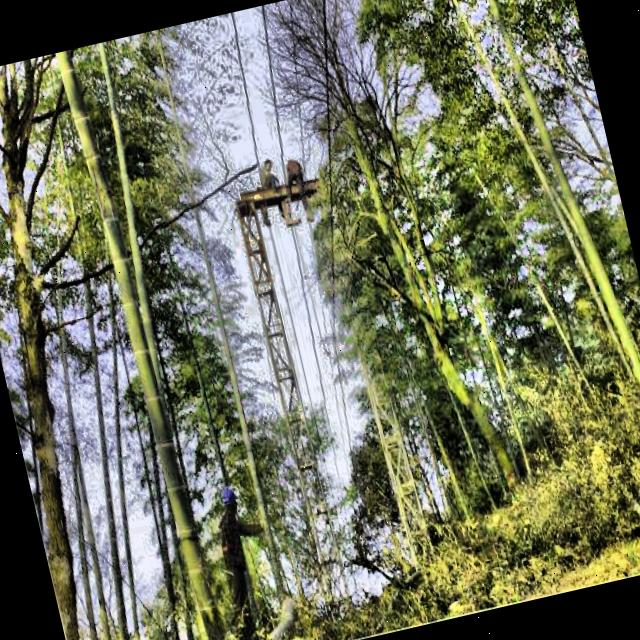helmet: (215, 482, 240, 516)
